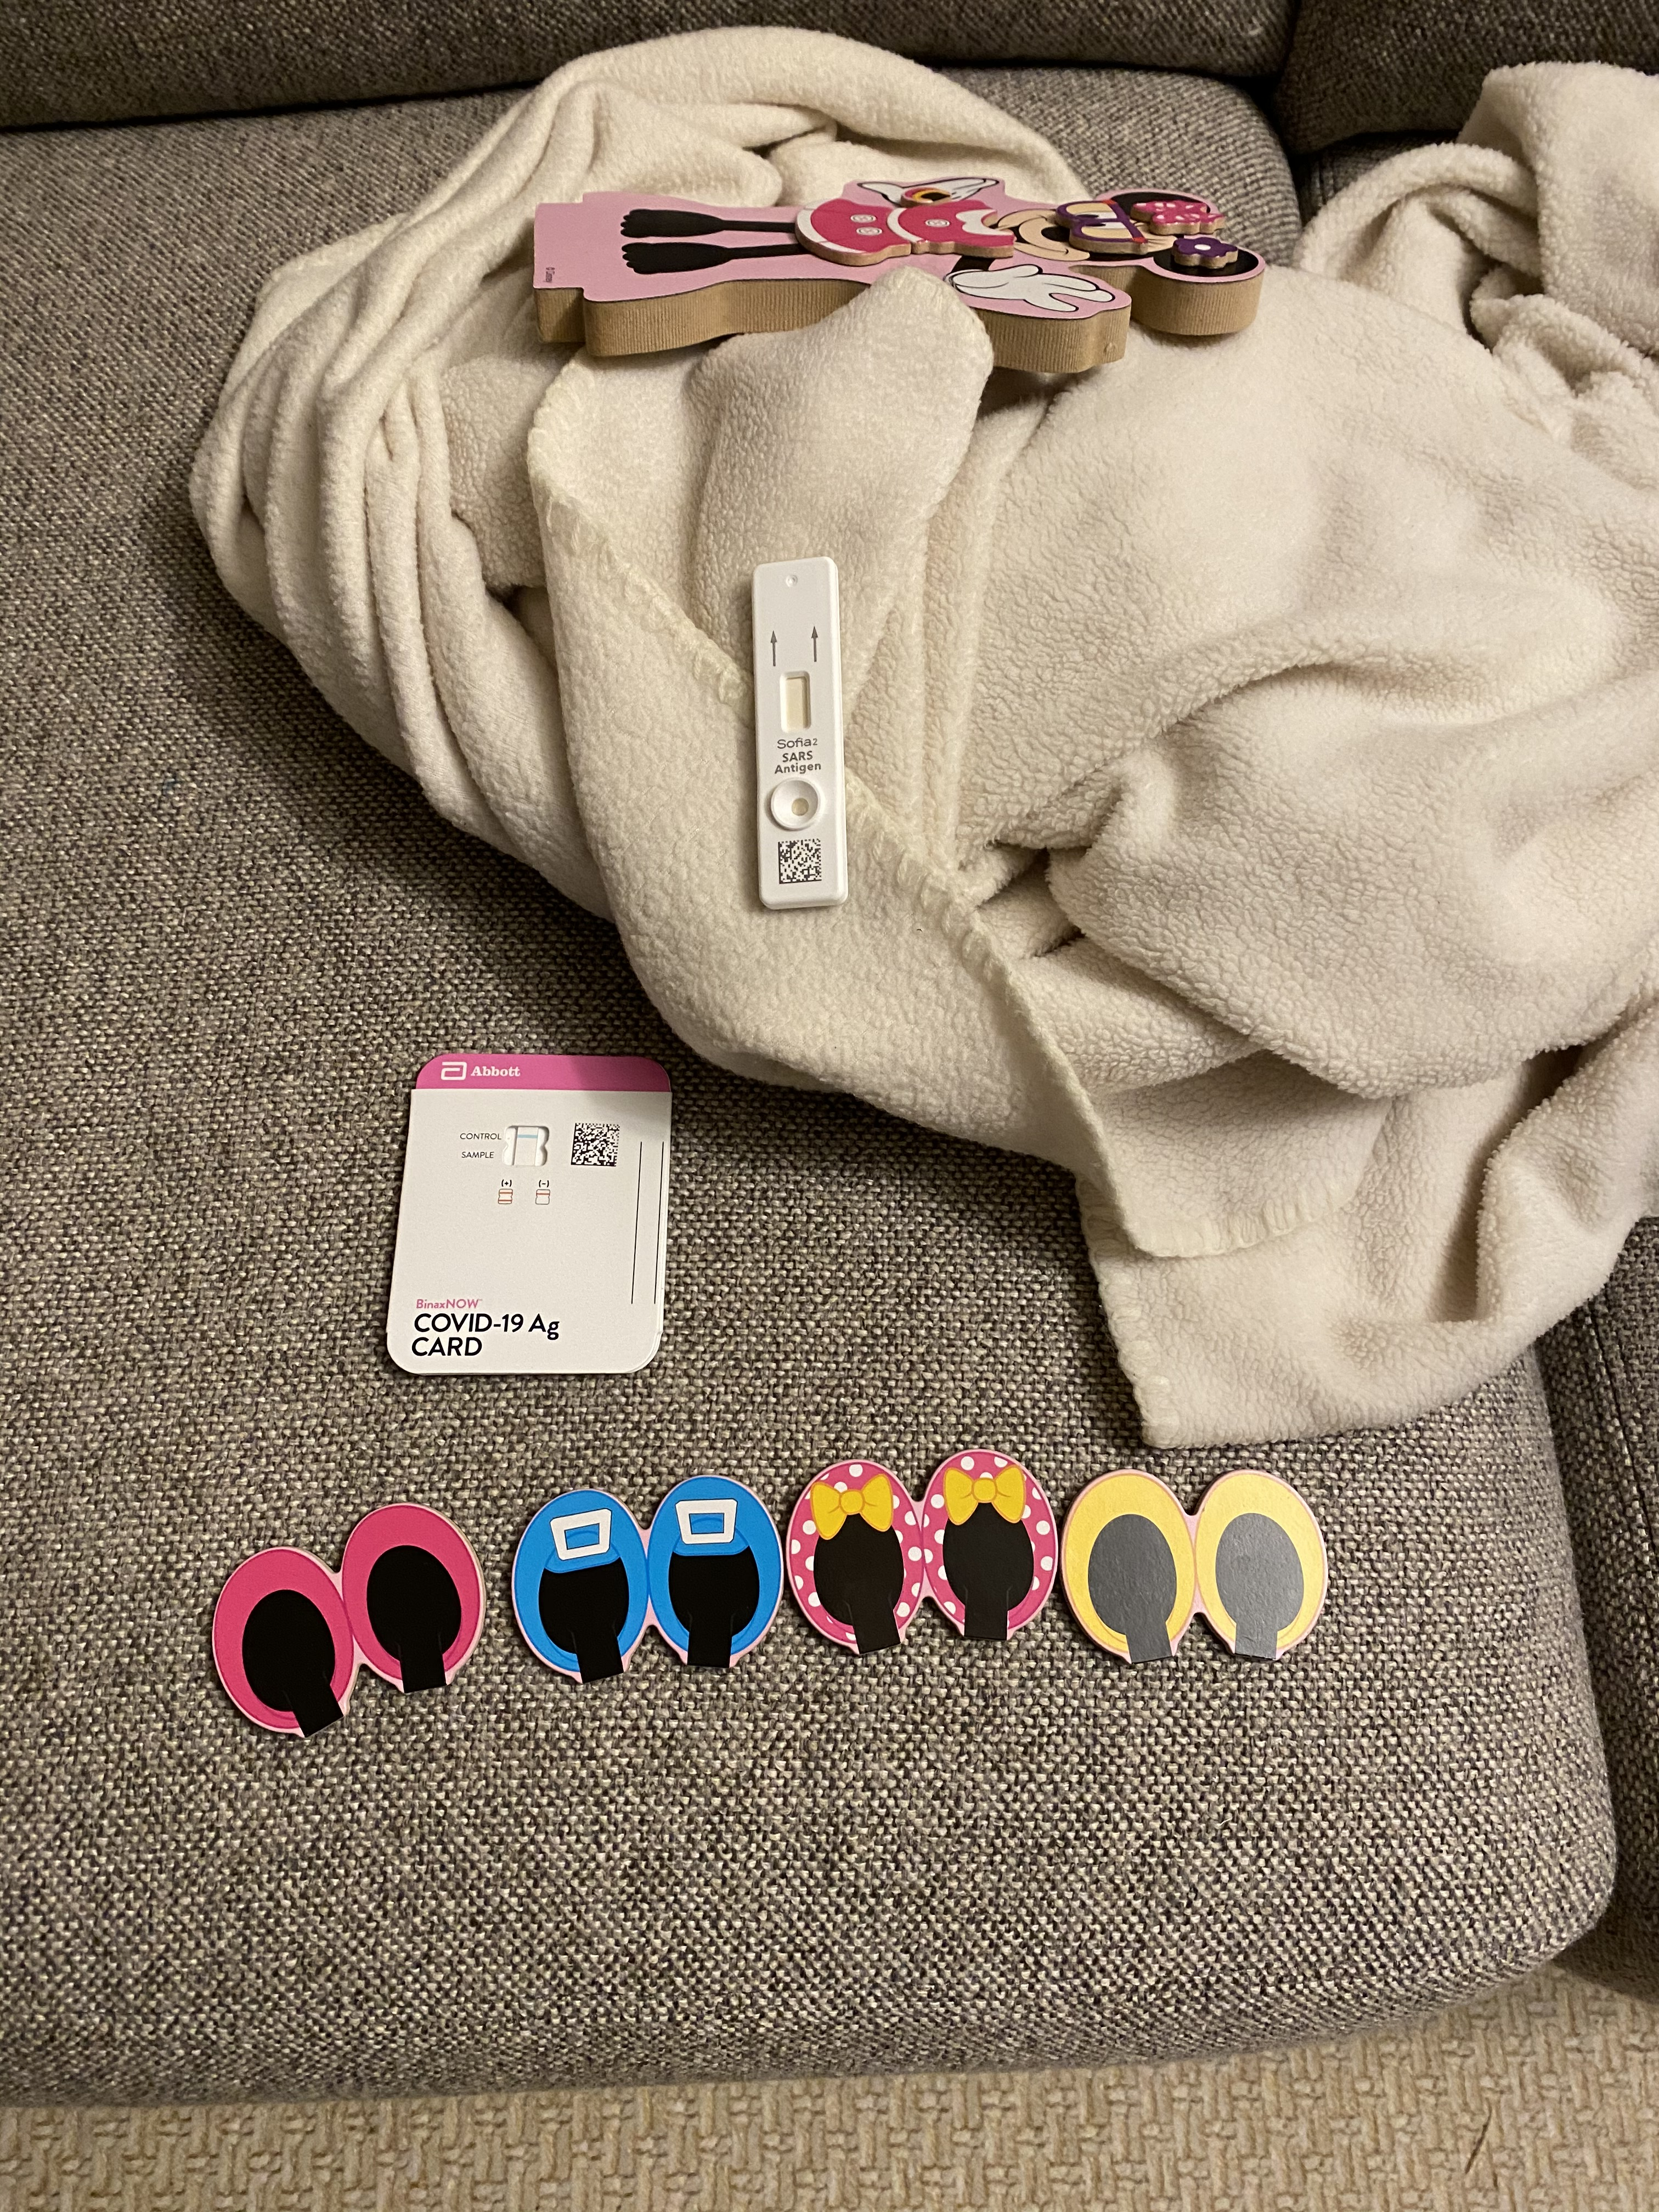binax: (385, 1036, 683, 1379)
quidel: (744, 550, 854, 914)
